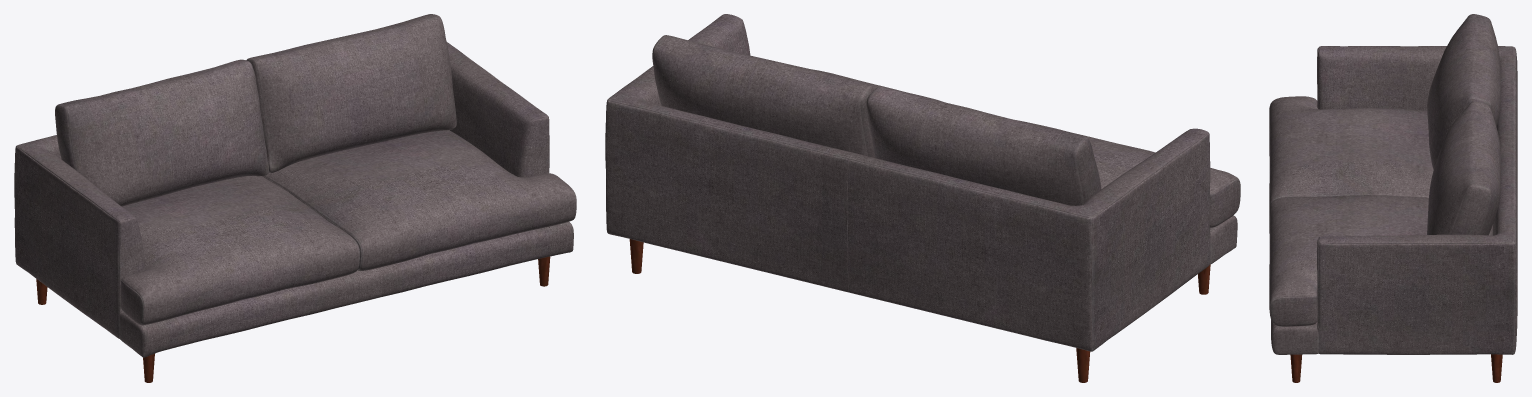
The model's file is abo-B082TC37LY.glb.
3 renders of one model, left to right at view 1: azimuth 30°, elevation 25°; view 2: azimuth 150°, elevation 25°; view 3: azimuth 270°, elevation 25°, orthographic. The views are drawn at different scales.
Bounding box in the file's own units: 1.95 × 0.868 × 1.02.
1 material, 1 textured.
